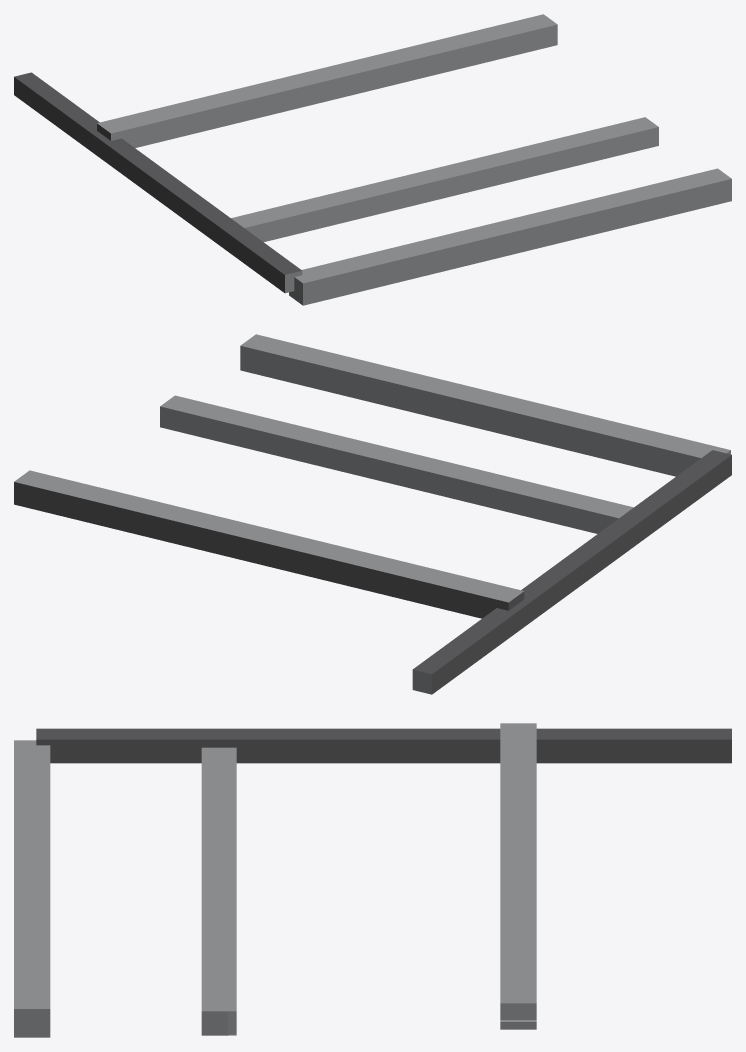
3 renders of one model, top to bottom at view 1: azimuth 30°, elevation 25°; view 2: azimuth 150°, elevation 25°; view 3: azimuth 270°, elevation 25°, orthographic. The views are drawn at different scales.
Bounding box in the file's own units: 1.11 × 0.0799 × 1.18.
